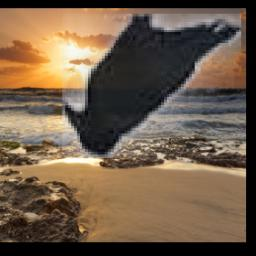Crow: (63, 14, 242, 158)
